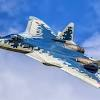maybay_muctieu: (1, 19, 100, 88)
